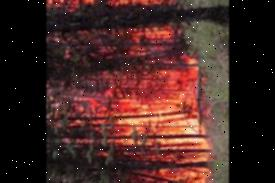fire: (107, 90, 210, 183)
